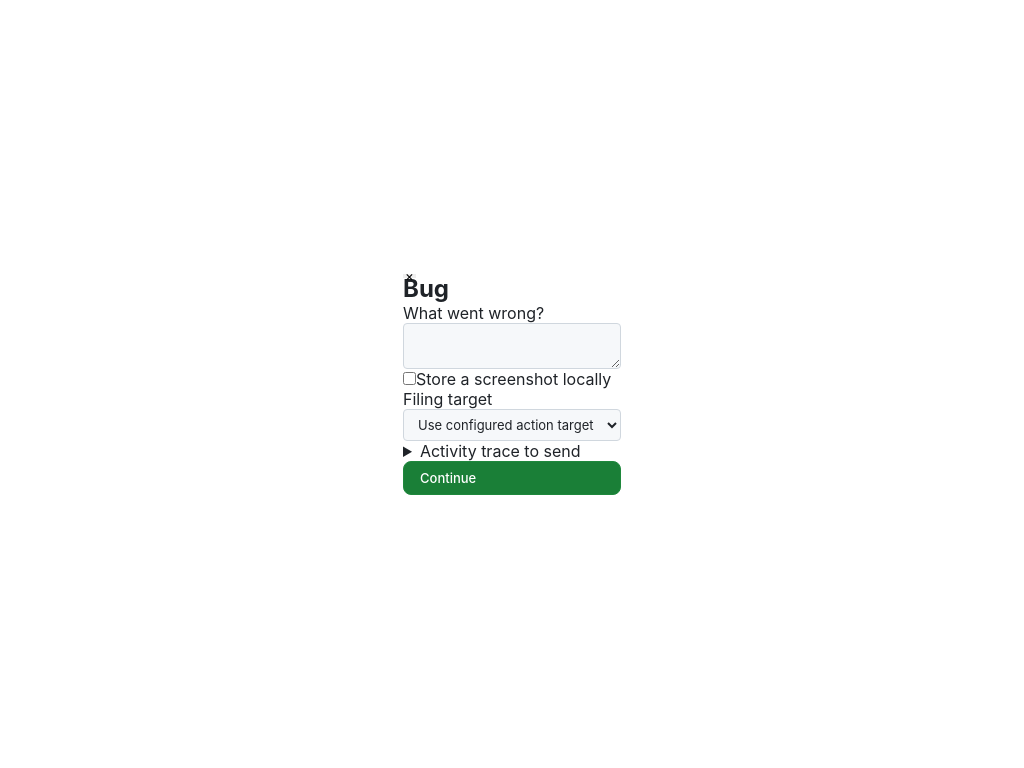
ReportModal › preserves an editable draft and makes filing failures retryable
Type "It crashes" into the text box labelled "What went wrong?" at [512, 346], box [403,322,621,368]
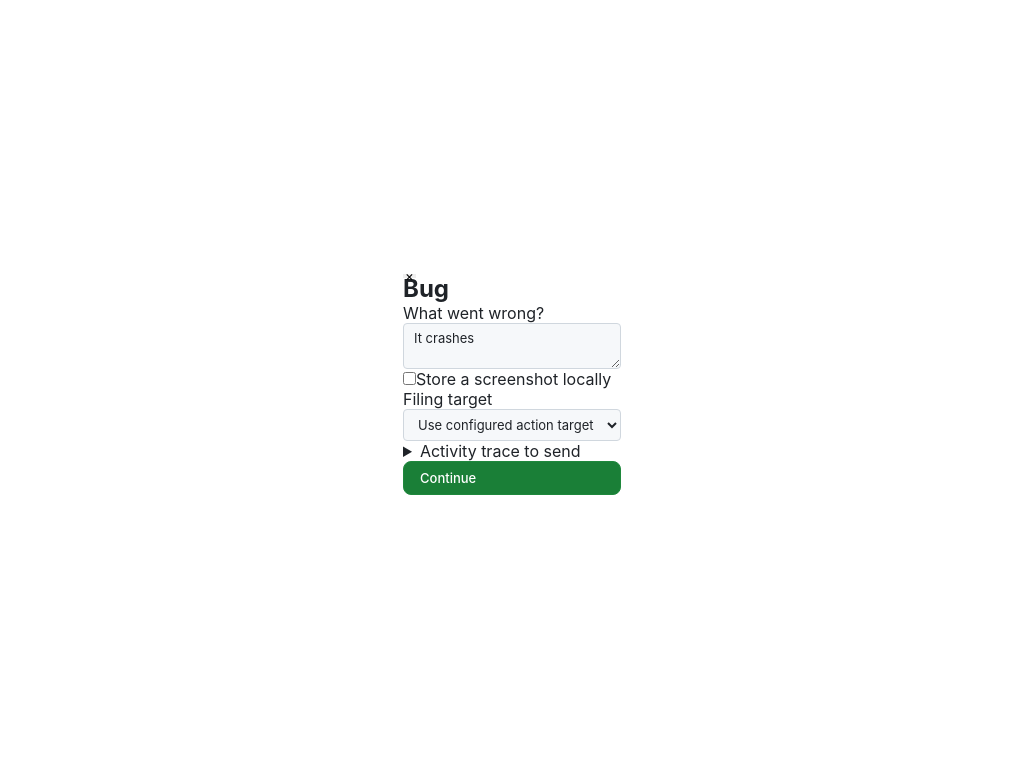
Click the button "Continue" at [512, 478], box [403,460,621,494]
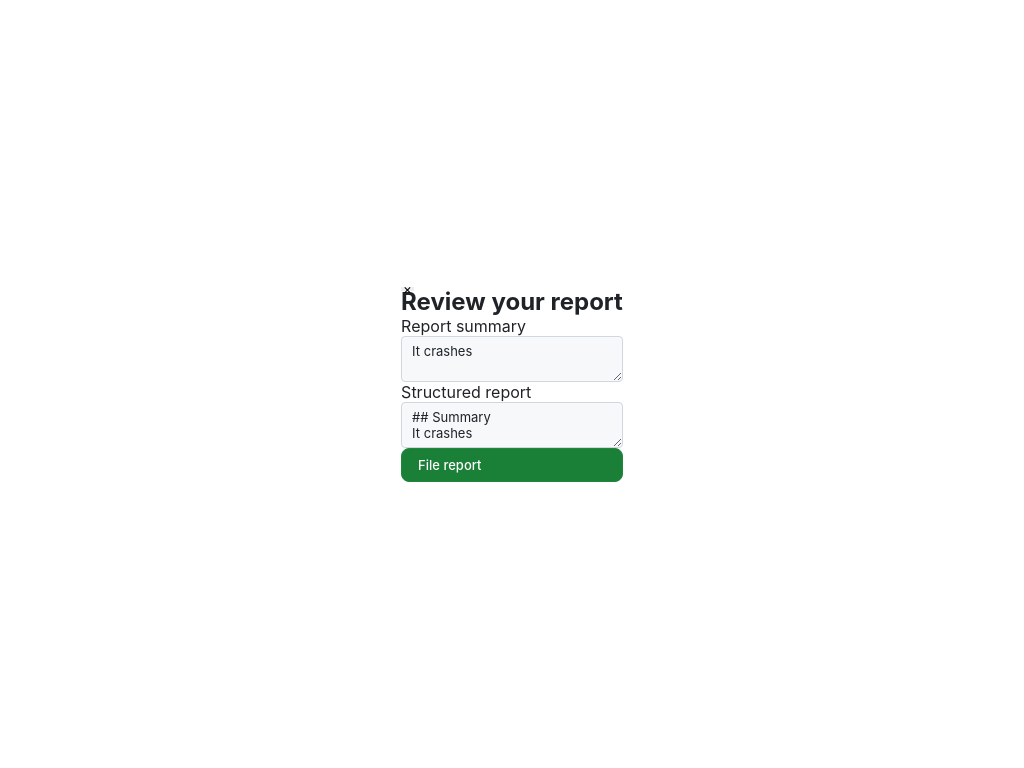
Expected: the heading "Review your report" is shown, [401,286,623,316]
Click the button "File report" at [512, 464], box [401,448,623,482]
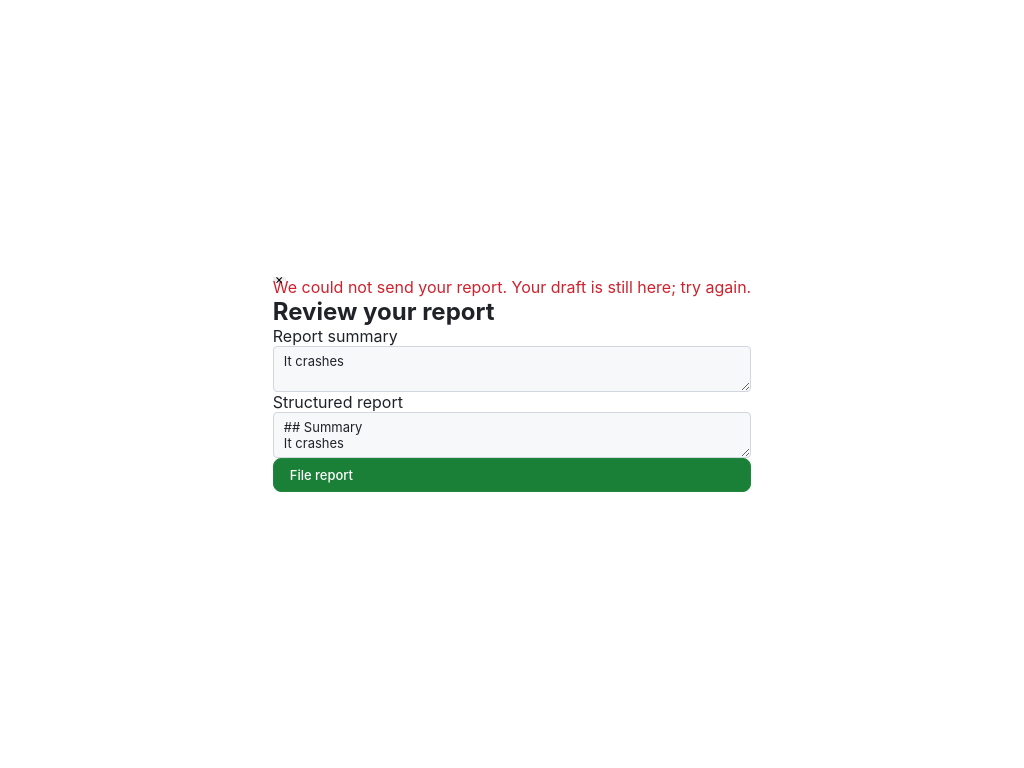
Expected: the button "File report" is enabled, [273,458,751,492]
Expected: the message shows "draft is still here", [273,276,751,296]
